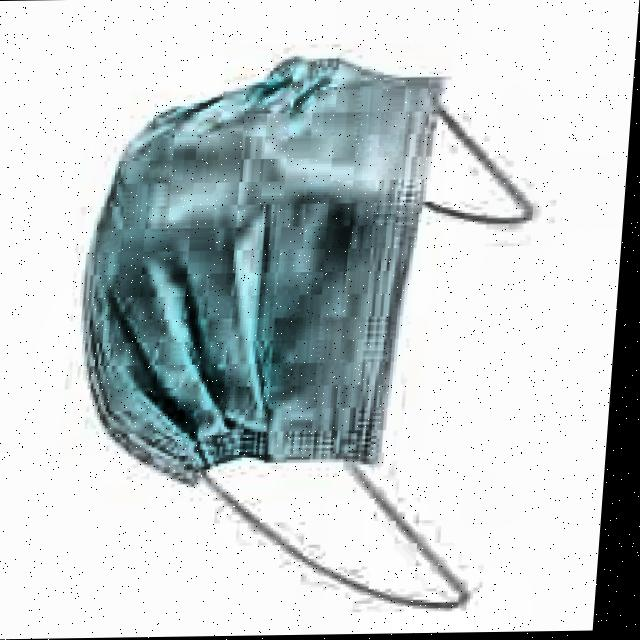trash: (71, 50, 453, 489)
